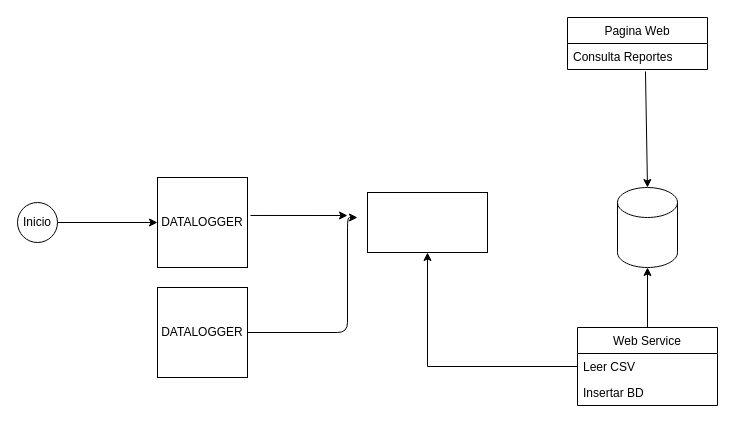
Some shapes in this 735 by 426 pixel diagram are drawn without their labels. The centre of each missing label's shape, as x and y in pixels:
"Archivo .dat" belongs at (x=427, y=222).
"Base de Datos" belongs at (x=647, y=227).
